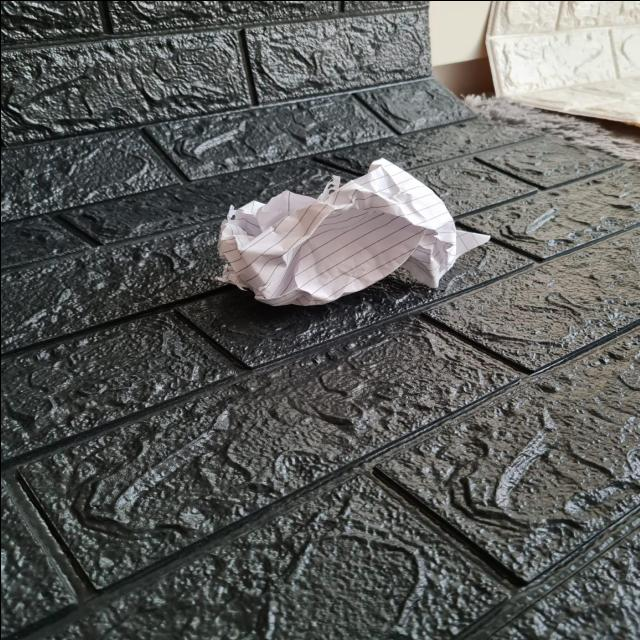kertas: (202, 158, 480, 304)
